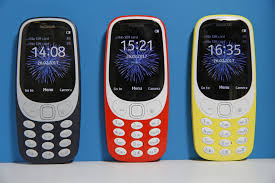nokia: (13, 16, 82, 168), (102, 14, 171, 166), (189, 13, 258, 165)
